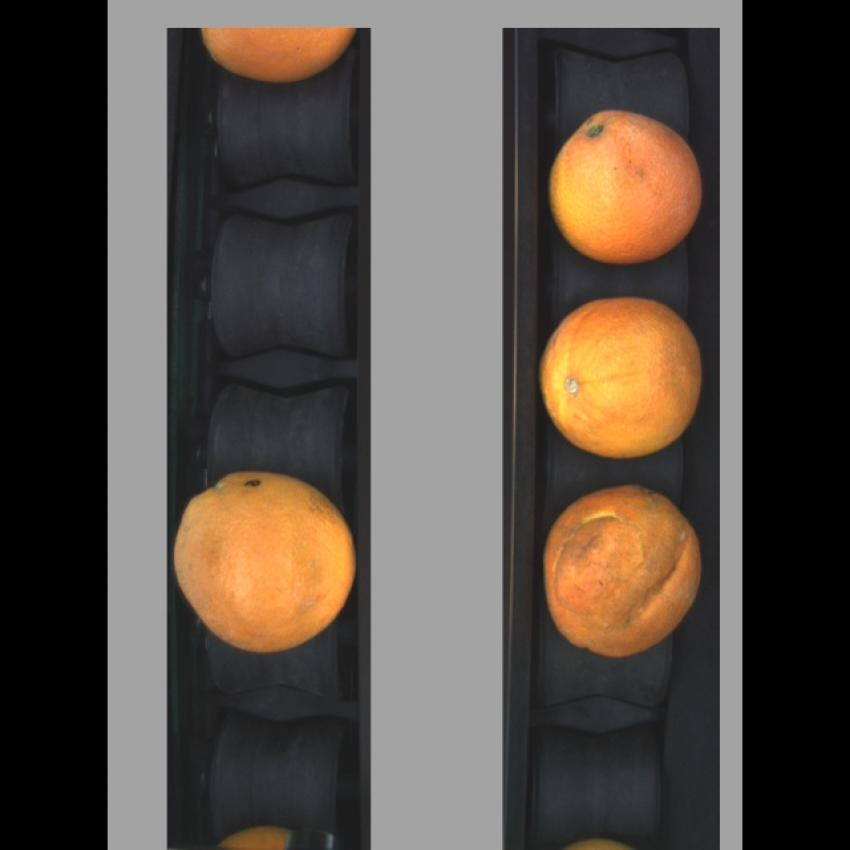Buen estado: (198, 28, 366, 83)
Mal estado: (172, 467, 357, 657), (541, 477, 710, 669), (538, 288, 714, 457), (547, 106, 709, 262)
